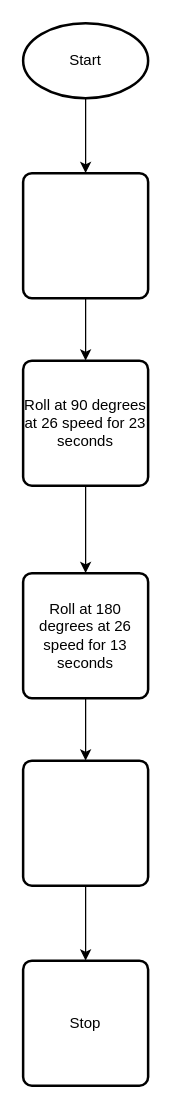
The diagram is 170 pixels wide and 1108 high, and some of its shapes have lost their labels. Here are the shapes that lost their labels. From the top down, the box of each, then its label:
(21, 171, 149, 299): Roll at 0 degrees at 26 speed for 13 seconds
(21, 759, 149, 886): Roll at 270 degrees at 26 for 24 seconds
